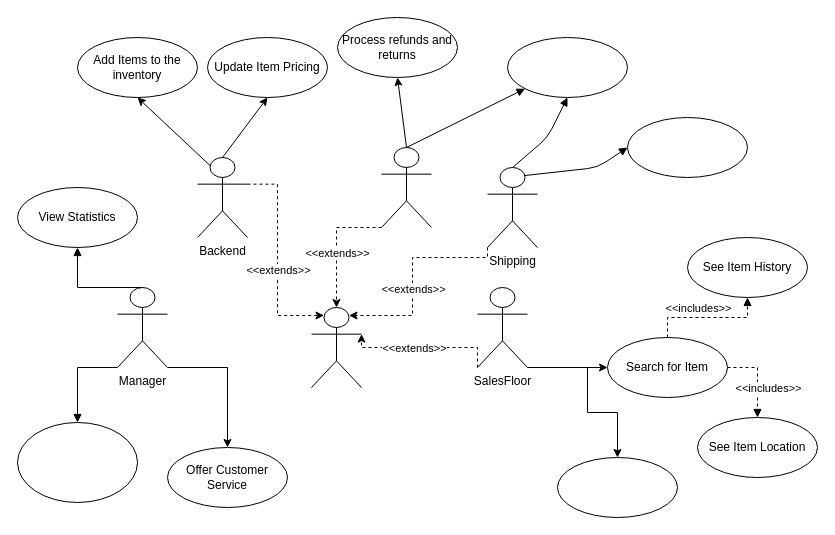
The diagram is 835 pixels wide and 535 high, and some of its shapes have lost their labels. Here are the shapes that lost their labels. From the top down, the box of each, then its label:
(506, 36, 628, 98): See Shipping Data
(626, 116, 748, 178): Generate Shipping Label
(380, 146, 432, 228): Guest Service
(310, 306, 362, 388): Team Member
(16, 422, 138, 502): Receive notifications on low inventory items
(556, 456, 678, 518): Mark Items as Sold
